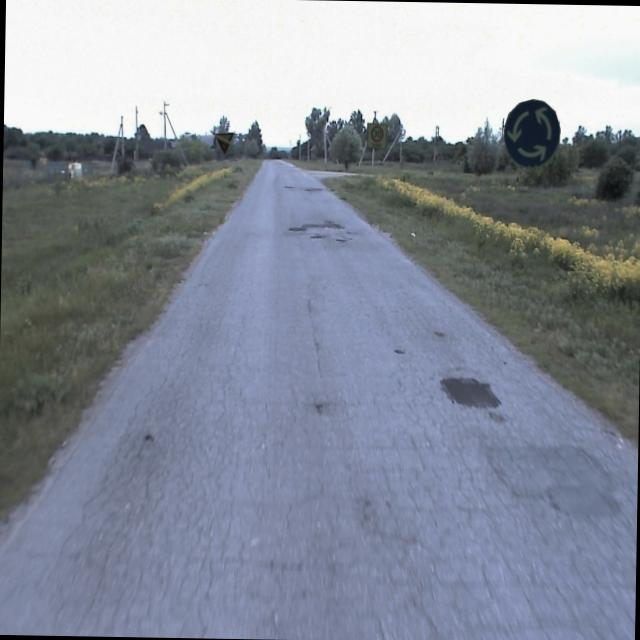road: (0, 160, 637, 640)
